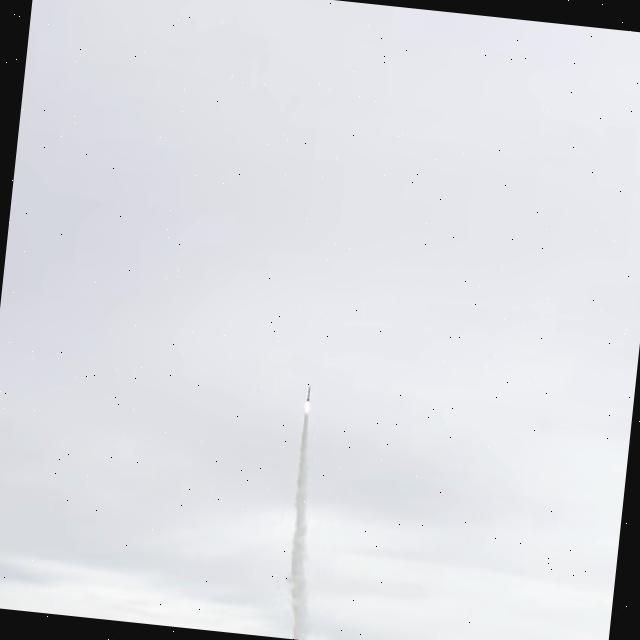smoke_trail_with_rocket: (289, 386, 309, 640)
